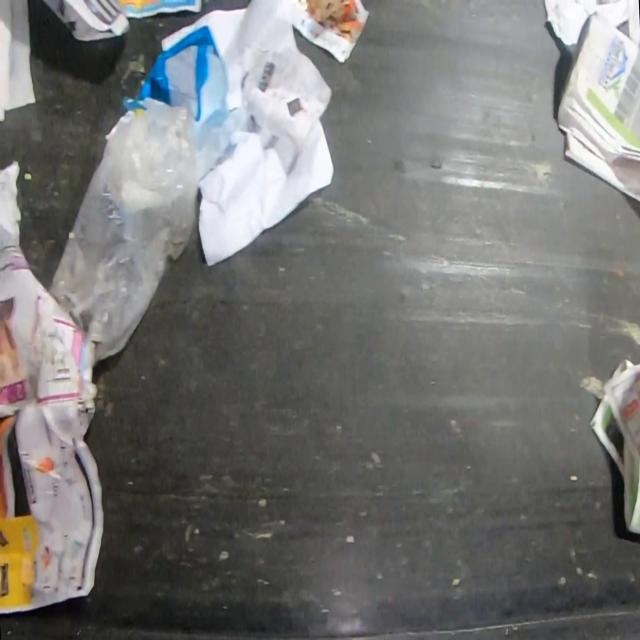soft_plastic: (50, 100, 198, 367), (122, 25, 255, 185)
